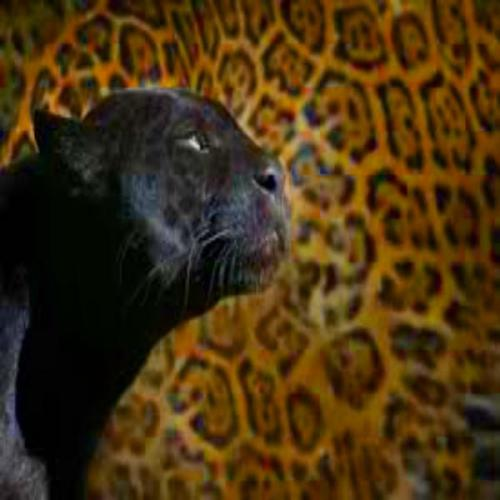panther-endangered: (0, 86, 289, 500)
